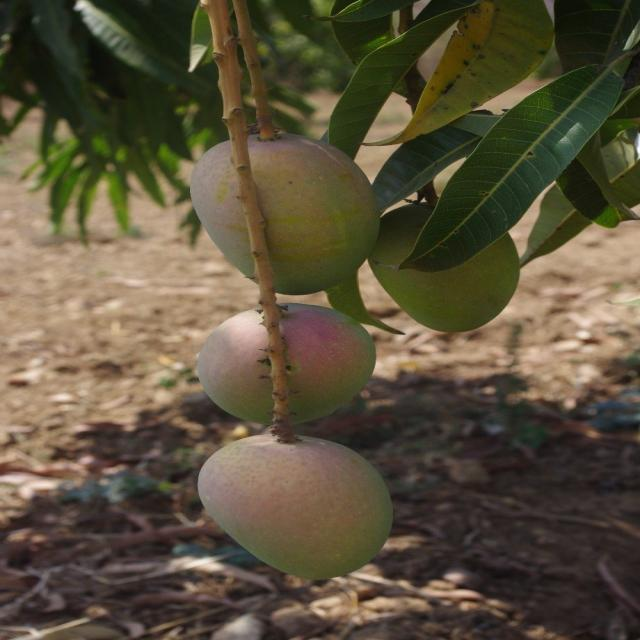mango: (203, 428, 399, 584), (203, 128, 367, 291), (182, 294, 383, 421), (370, 199, 524, 338)
